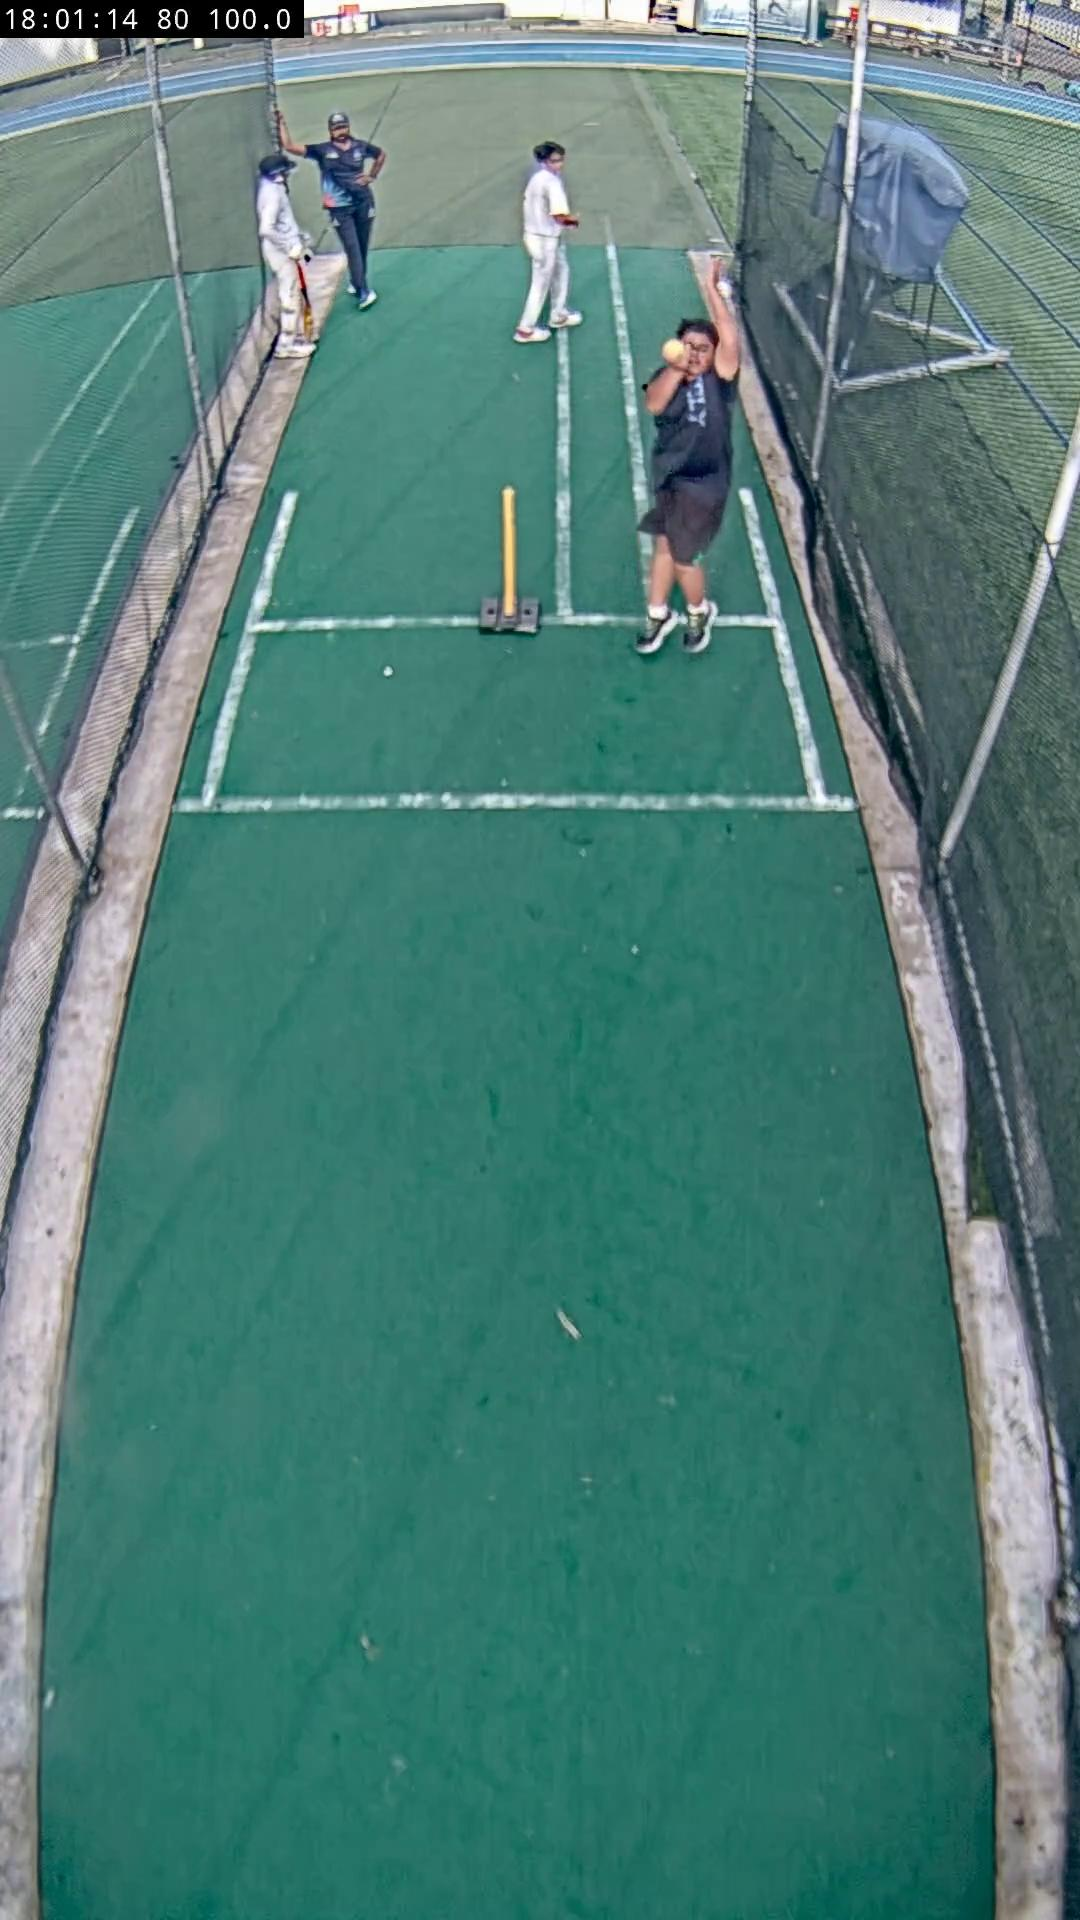ball: (661, 338, 686, 361)
stumps: (480, 488, 541, 634)
